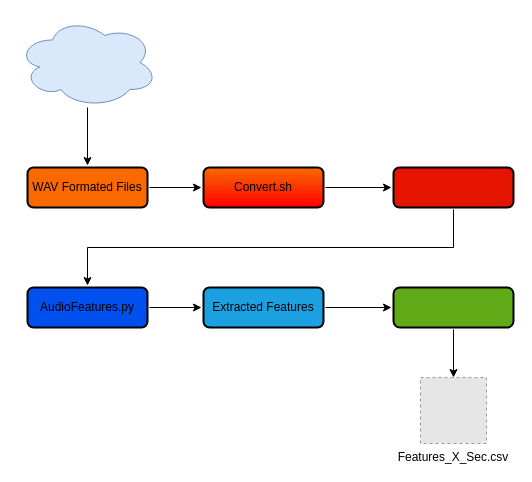
Image size: 532x482. Some labels were removed from this diagram. Grey dashed boxes stand in for pictures. The centre of each missing label's shape, as x and y in pixels:
"CsvWriter.py" goes at pixel 453 307.
"FLAC/MP3 Formated Files" goes at pixel 453 187.
"GTZAN Dataset" goes at pixel 87 62.
